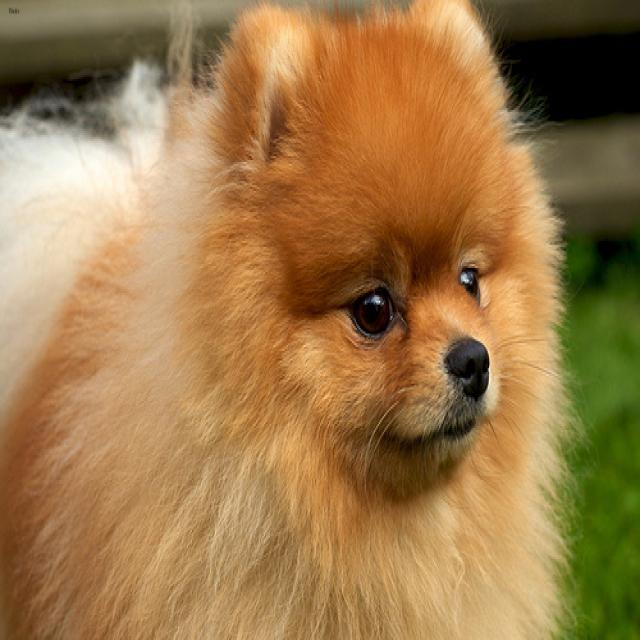dog-pomeranian: (1, 2, 580, 636)
